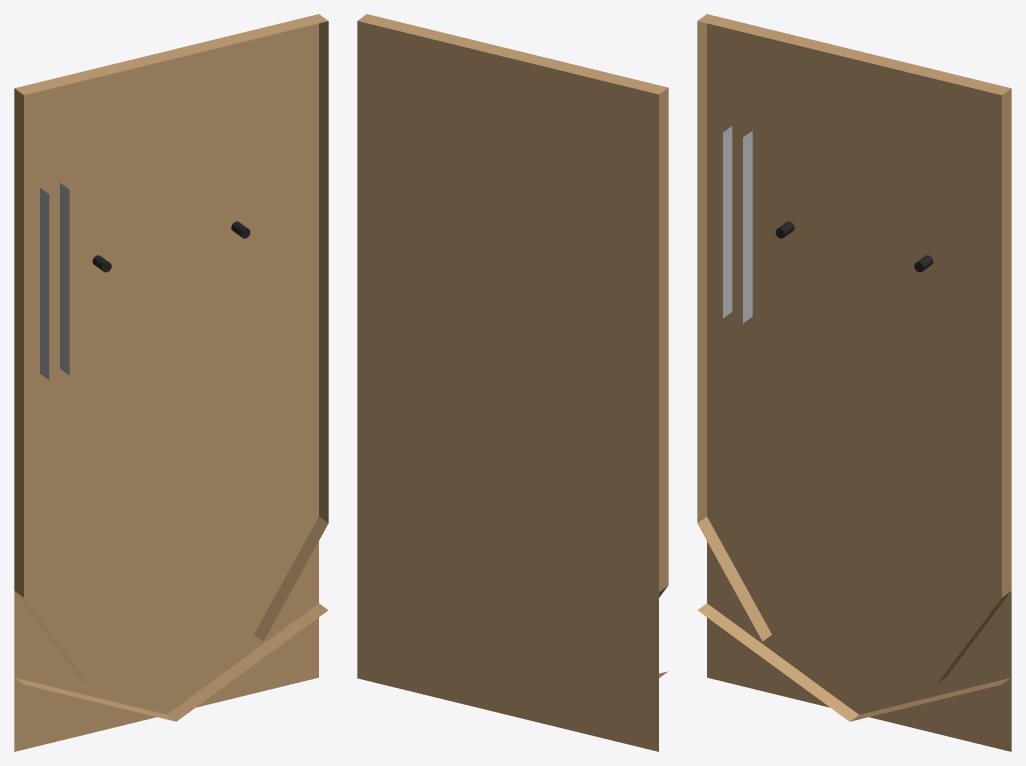
File: playfield.glb
The picture shows the model from 3 angles, left to right: view 1: azimuth 30°, elevation 25°; view 2: azimuth 150°, elevation 25°; view 3: azimuth 330°, elevation 25°; orthographic projection.
Visible parts, largest first — view 1: floor, walls[0], walls[1], tablegen:lanes[0].right, tablegen:lanes[0].left; view 2: floor, walls[0]; view 3: floor, walls[0], walls[1], tablegen:lanes[0].left, tablegen:lanes[0].right.
Part boxes in pixels (x1,y1,x2,y2): floor: (14,23,318,751); walls[0]: (14,14,328,683); walls[1]: (15,603,328,721); tablegen:lanes[0].right: (60,183,69,375); tablegen:lanes[0].left: (40,188,49,379); floor: (357,21,658,751); walls[0]: (358,14,668,597); floor: (707,23,1011,751); walls[0]: (697,14,1011,683); walls[1]: (697,603,1010,721); tablegen:lanes[0].left: (723,126,732,318); tablegen:lanes[0].right: (743,131,752,323).
Size of the model in its own units: 0.514 by 1.07 by 0.028.
